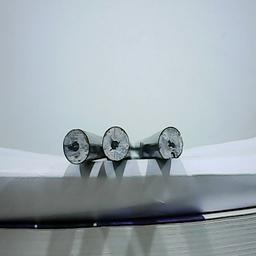pen: (102, 124, 131, 161), (157, 124, 185, 161), (63, 128, 90, 164)
